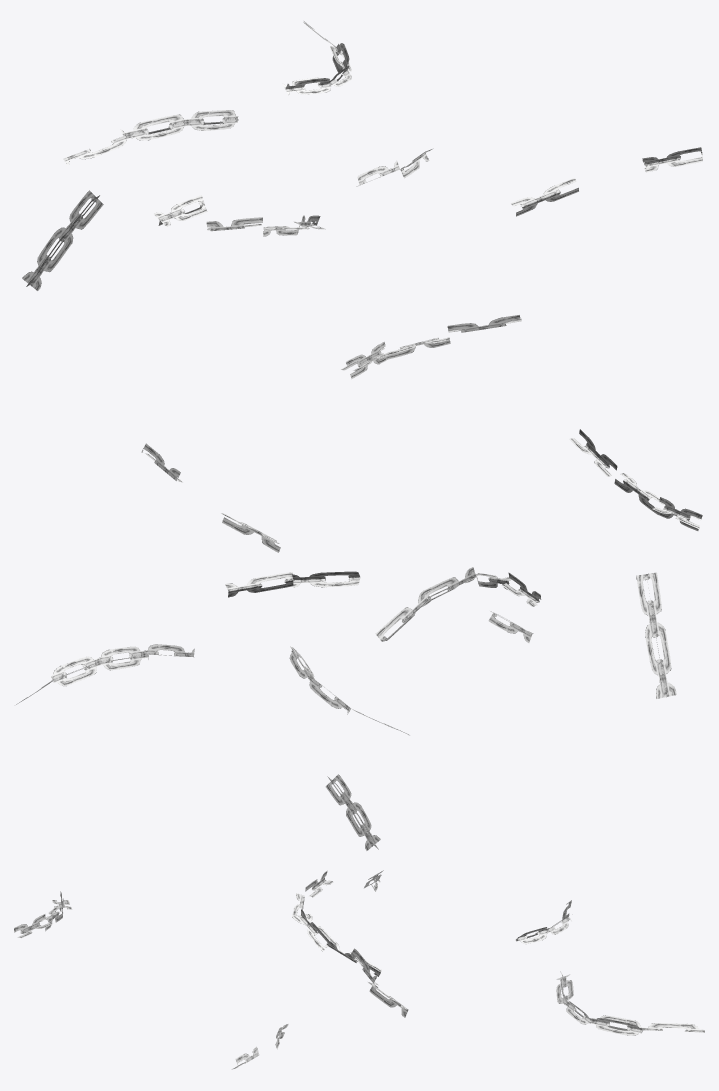
Rendered from suipian.FBX.
The picture shows the model from 3 angles, top to bottom: view 1: azimuth 30°, elevation 25°; view 2: azimuth 150°, elevation 25°; view 3: azimuth 270°, elevation 25°; orthographic projection. The views are drawn at different scales.
Visible parts, largest first — view 1: 8, 1, 4, 5, 7, 9, 6, 3; view 2: 7, 1, 9, 4, 3, 5, 8; view 3: 7, 9, 1, 4, 3, 8.
Boxes of the visible parts, x1=… form: 8: x1=63, y1=110, x2=238, y2=165; 1: x1=22, y1=190, x2=103, y2=290; 4: x1=341, y1=315, x2=521, y2=378; 5: x1=510, y1=147, x2=702, y2=216; 7: x1=282, y1=21, x2=351, y2=94; 9: x1=206, y1=215, x2=325, y2=236; 6: x1=153, y1=195, x2=207, y2=226; 3: x1=356, y1=148, x2=433, y2=186; 7: x1=16, y1=644, x2=194, y2=704; 1: x1=636, y1=572, x2=676, y2=698; 9: x1=376, y1=567, x2=541, y2=641; 4: x1=569, y1=429, x2=702, y2=530; 3: x1=225, y1=571, x2=360, y2=597; 5: x1=141, y1=443, x2=280, y2=552; 8: x1=289, y1=646, x2=409, y2=735; 7: x1=556, y1=971, x2=704, y2=1035; 9: x1=292, y1=870, x2=381, y2=976; 1: x1=325, y1=774, x2=380, y2=850; 4: x1=14, y1=891, x2=72, y2=938; 3: x1=350, y1=948, x2=408, y2=1017; 8: x1=516, y1=900, x2=571, y2=944.
Size of the model in its own units: 153 by 31.51 by 168.
Materials: 1 (1 with a texture image).
